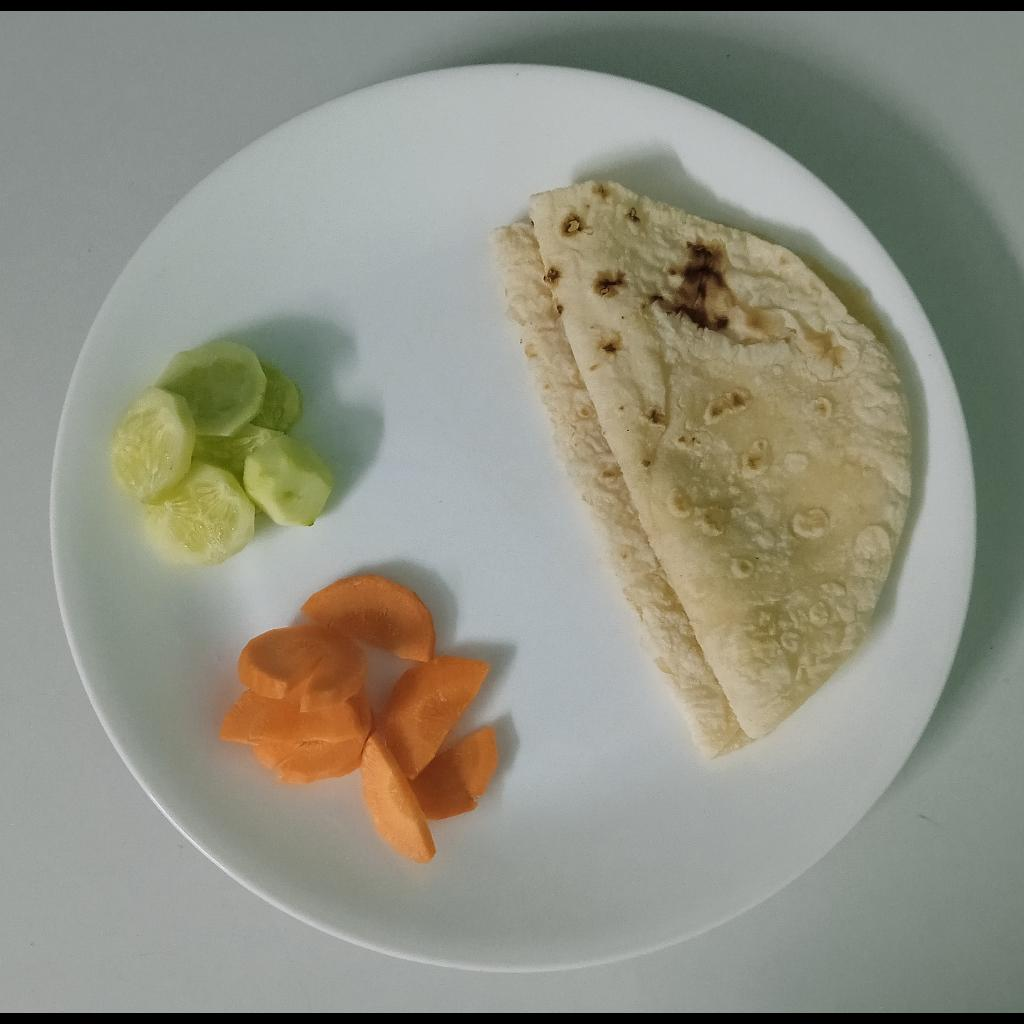carrot: (209, 574, 500, 871)
cucumber: (98, 336, 343, 569)
ruti: (488, 174, 920, 769)
